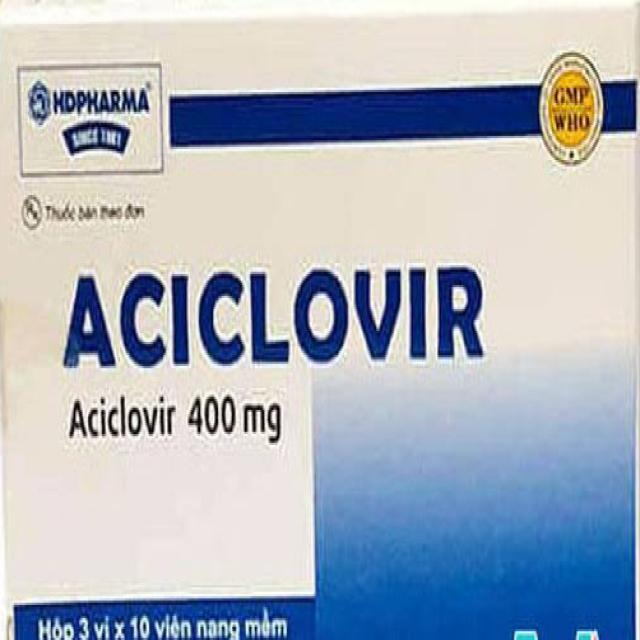drug-name: (54, 264, 496, 370)
